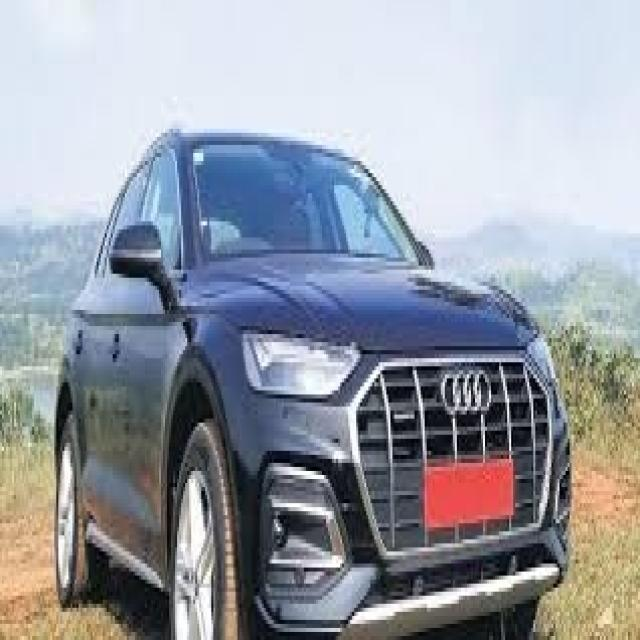black: (45, 149, 593, 640)
